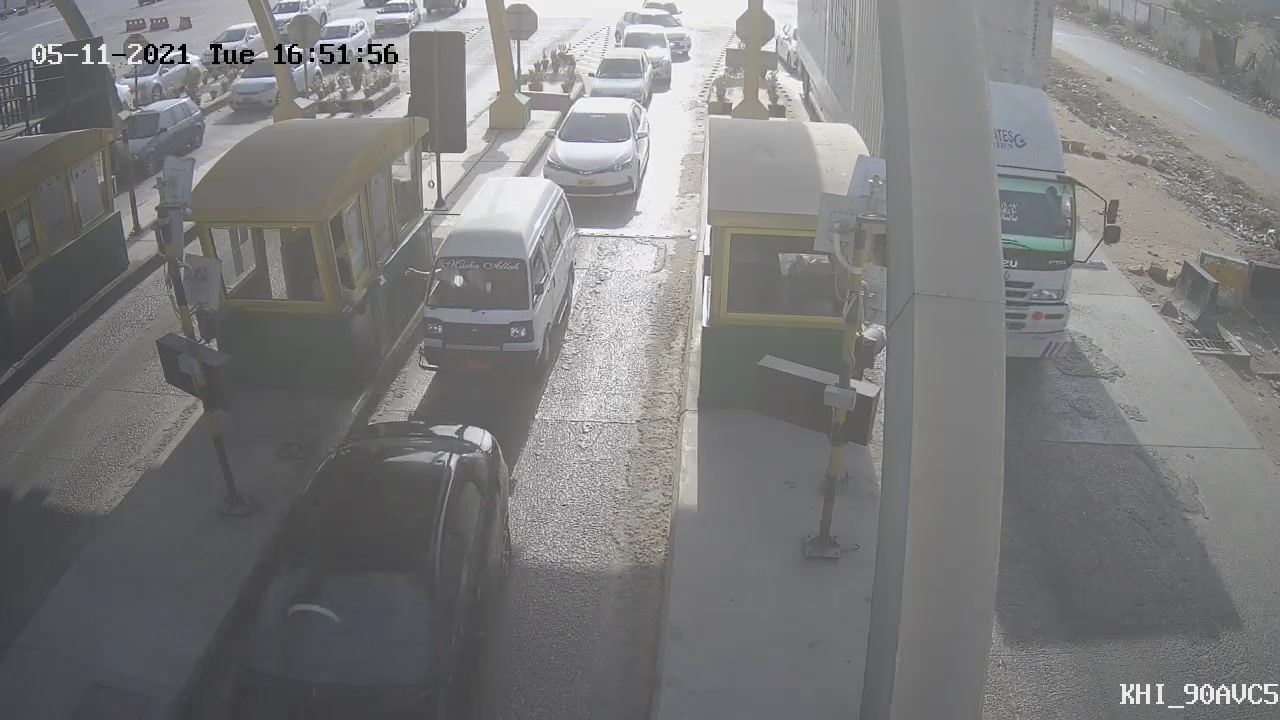F1: (395, 162, 601, 395), (522, 82, 664, 216)
